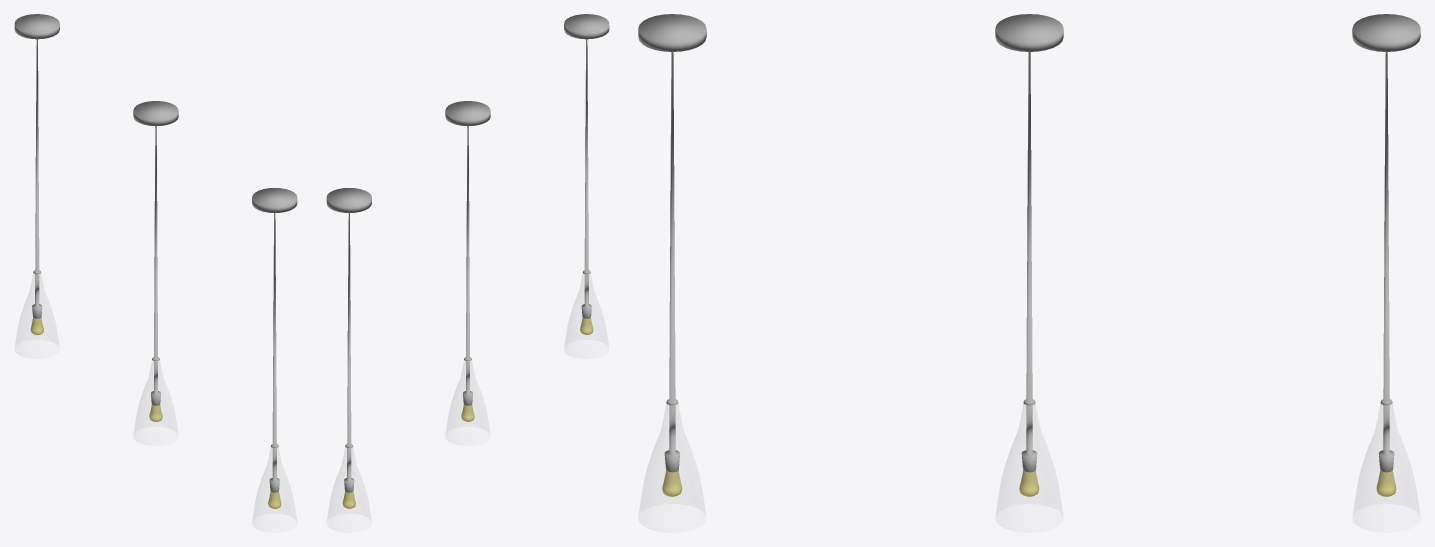
The model's file is Light_ArildaBrushedNickel.glb.
3 views of the same model, side by side, from view 1: azimuth 30°, elevation 25°; view 2: azimuth 150°, elevation 25°; view 3: azimuth 270°, elevation 25° (orthographic). The views are drawn at different scales.
Parts seen in each view (by area): view 1: Arilda Brushed Nickel; view 2: Arilda Brushed Nickel; view 3: Arilda Brushed Nickel.
Part boxes in pixels (<box>): Arilda Brushed Nickel: <box>14,14,297,520</box>; Arilda Brushed Nickel: <box>326,14,609,520</box>; Arilda Brushed Nickel: <box>638,14,1420,514</box>.
Bounding box in the file's own units: 0.191 × 1.5 × 2.18.
